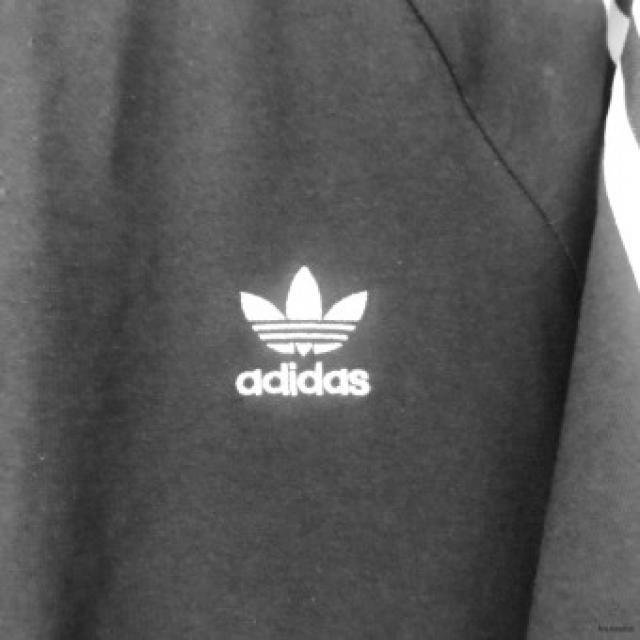Adidas: (222, 243, 378, 362)
